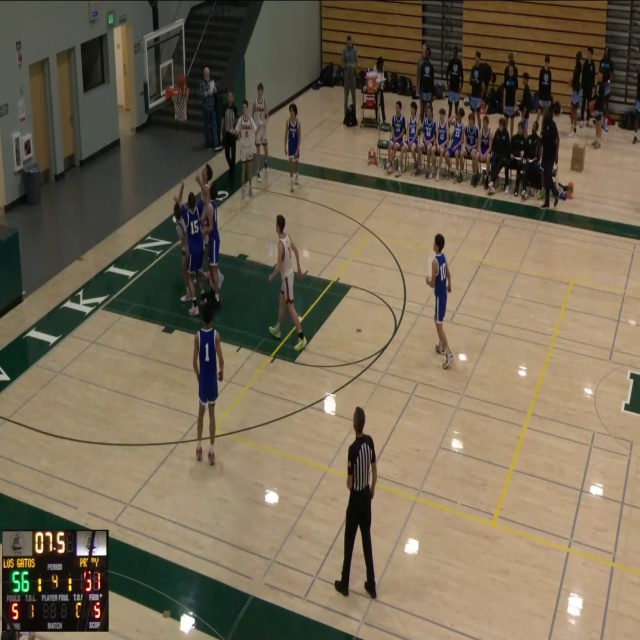Basketball: (176, 75, 186, 88)
